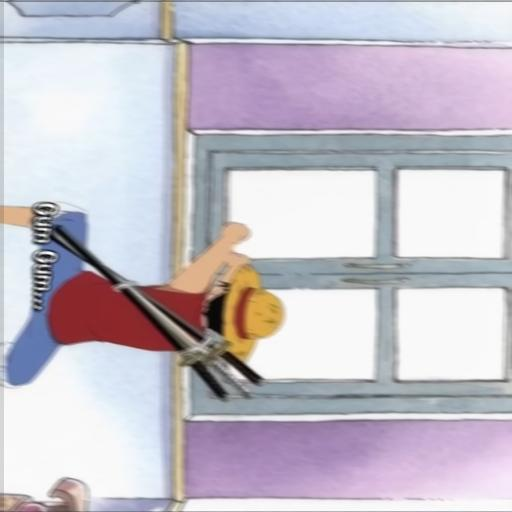Luffy: (0, 165, 277, 396)
